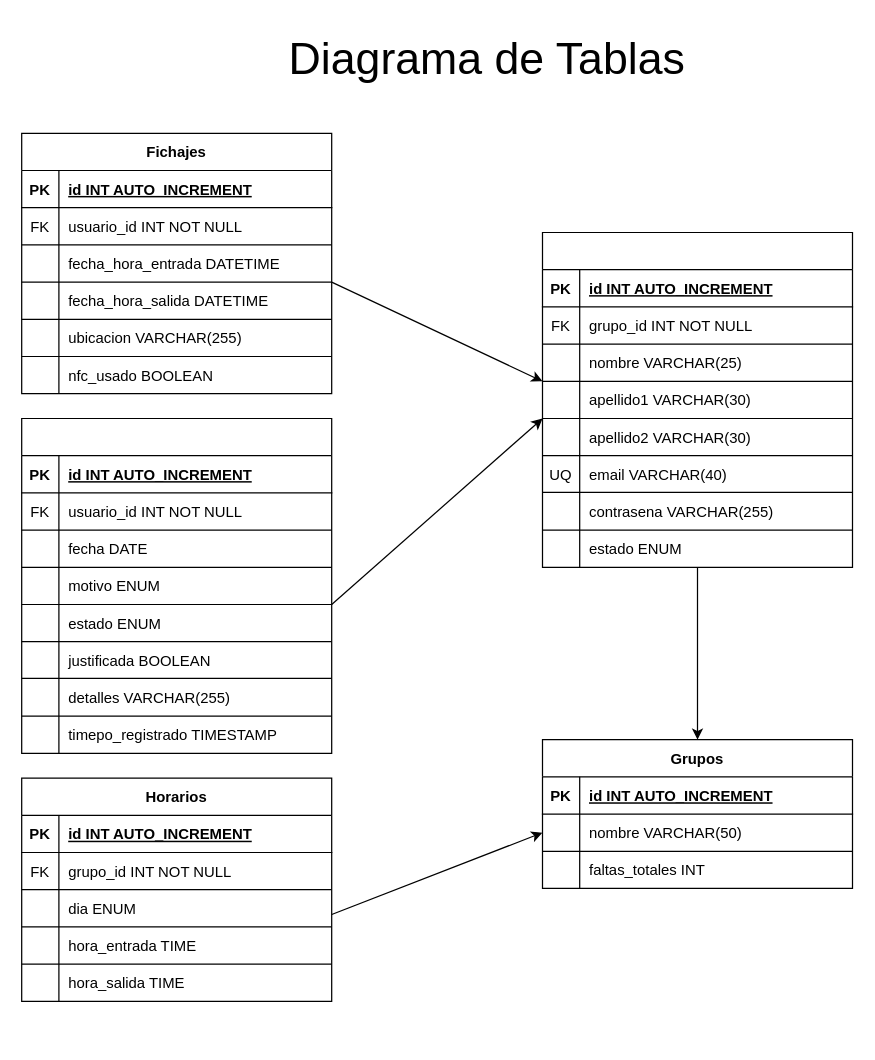
The diagram is 875 pixels wide and 1060 high, and some of its shapes have lost their labels. Each missing label, with the box of its shape:
Ausencias: (20, 417, 332, 753)
Usuarios: (541, 231, 852, 567)
